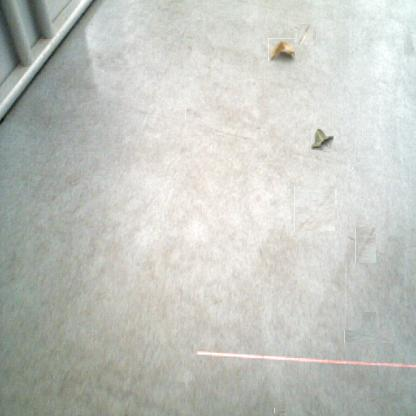dirty: (268, 38, 295, 61), (312, 127, 336, 151), (296, 24, 314, 44)
mark: (293, 188, 336, 231), (353, 321, 385, 352), (352, 231, 380, 260), (373, 388, 393, 408), (404, 34, 416, 58), (185, 107, 200, 119), (276, 406, 284, 415)
